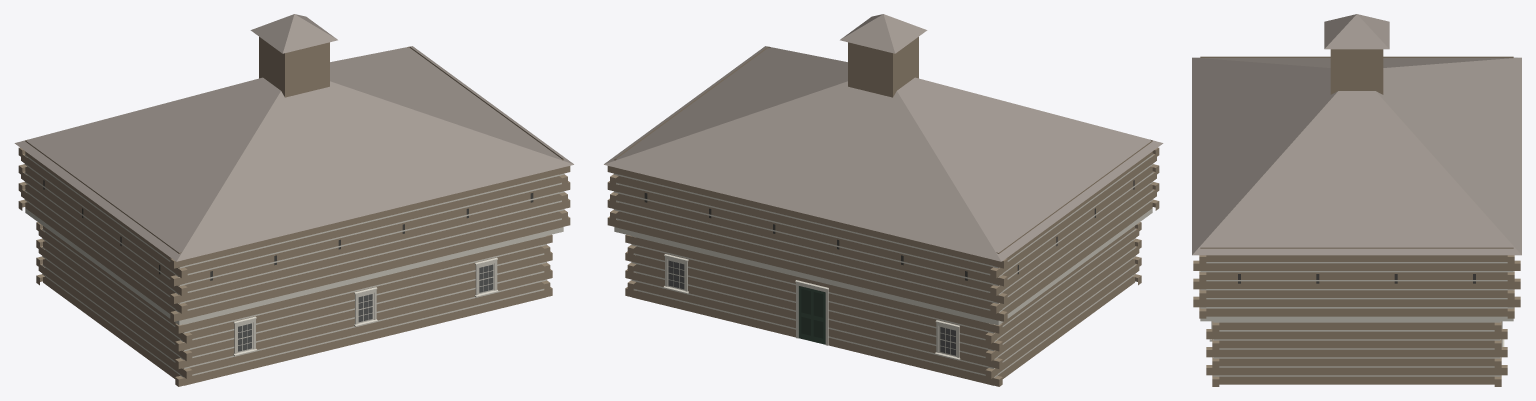
Rendered from fort_dearborn_blockhouse__log_1816.glb.
The picture shows the model from 3 angles, left to right: view 1: azimuth 30°, elevation 25°; view 2: azimuth 150°, elevation 25°; view 3: azimuth 270°, elevation 25°; orthographic projection.
Parts seen in each view (by area): view 1: fort_dearborn_blockhouse__log_1816; view 2: fort_dearborn_blockhouse__log_1816; view 3: fort_dearborn_blockhouse__log_1816.
Part boxes in pixels (<box>): fort_dearborn_blockhouse__log_1816: <box>14,14,573,386</box>; fort_dearborn_blockhouse__log_1816: <box>604,14,1163,386</box>; fort_dearborn_blockhouse__log_1816: <box>1192,14,1521,386</box>.
Bounding box in the file's own units: 15.98 × 10.58 × 11.26.
